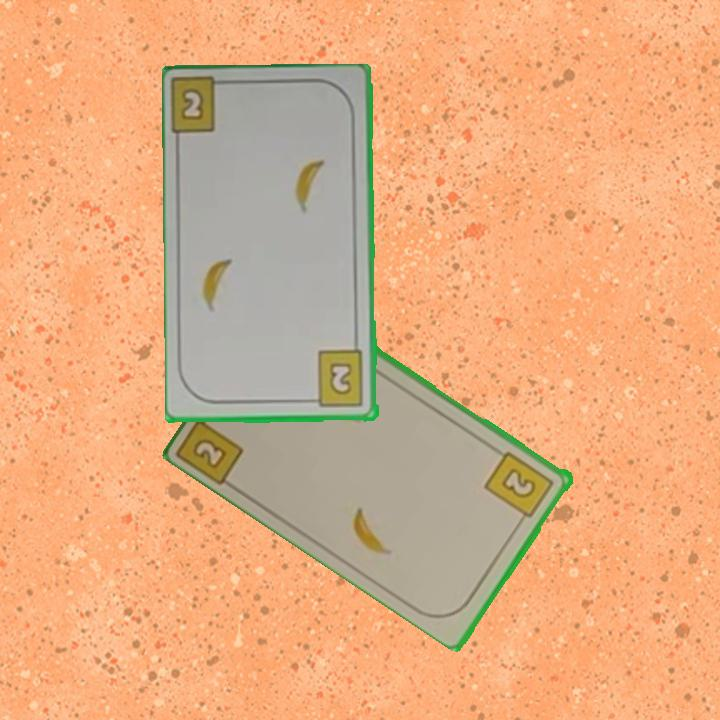2b: (481, 447, 557, 527), (176, 403, 248, 487), (306, 348, 367, 410), (178, 85, 207, 124)
